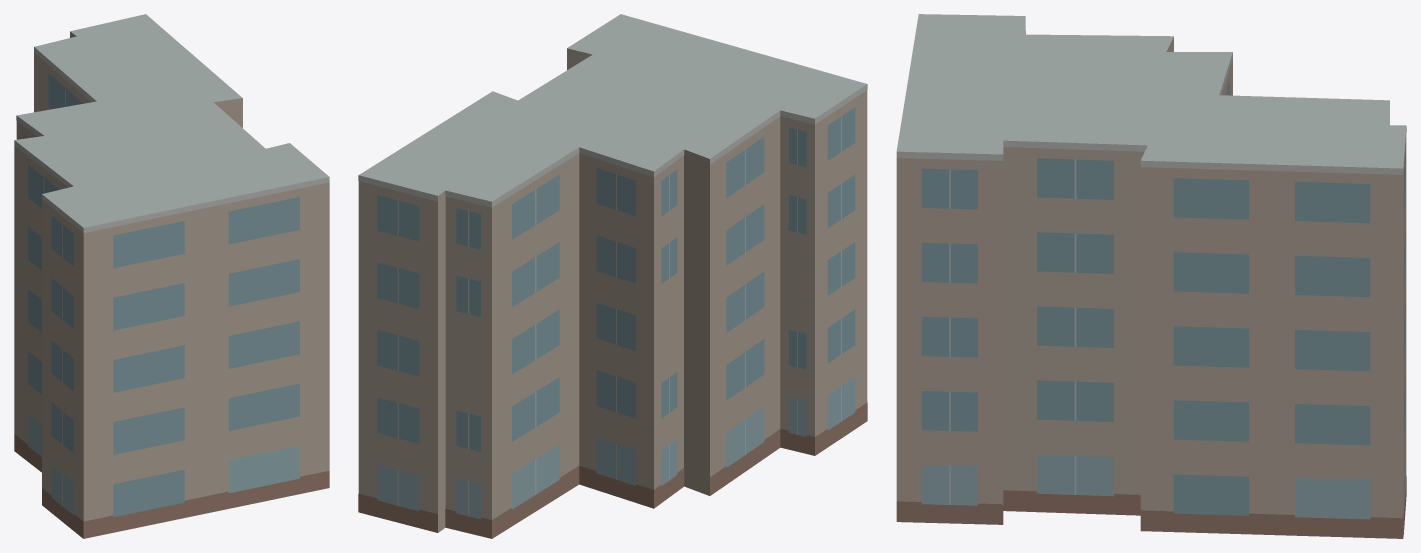
The model's file is survey-upis-32752665.glb.
3 views of the same model, side by side, from view 1: azimuth 30°, elevation 25°; view 2: azimuth 150°, elevation 25°; view 3: azimuth 270°, elevation 25° (orthographic). The views are drawn at different scales.
Parts seen in each view (by area): view 1: survey-upis-32752665.tmp; view 2: survey-upis-32752665.tmp; view 3: survey-upis-32752665.tmp.
Part boxes in pixels (bbox=[...]): survey-upis-32752665.tmp: bbox=[14, 14, 329, 538]; survey-upis-32752665.tmp: bbox=[358, 14, 867, 538]; survey-upis-32752665.tmp: bbox=[896, 14, 1406, 538].
Bounding box in the file's own units: 12.63 × 14.1 × 17.6.
